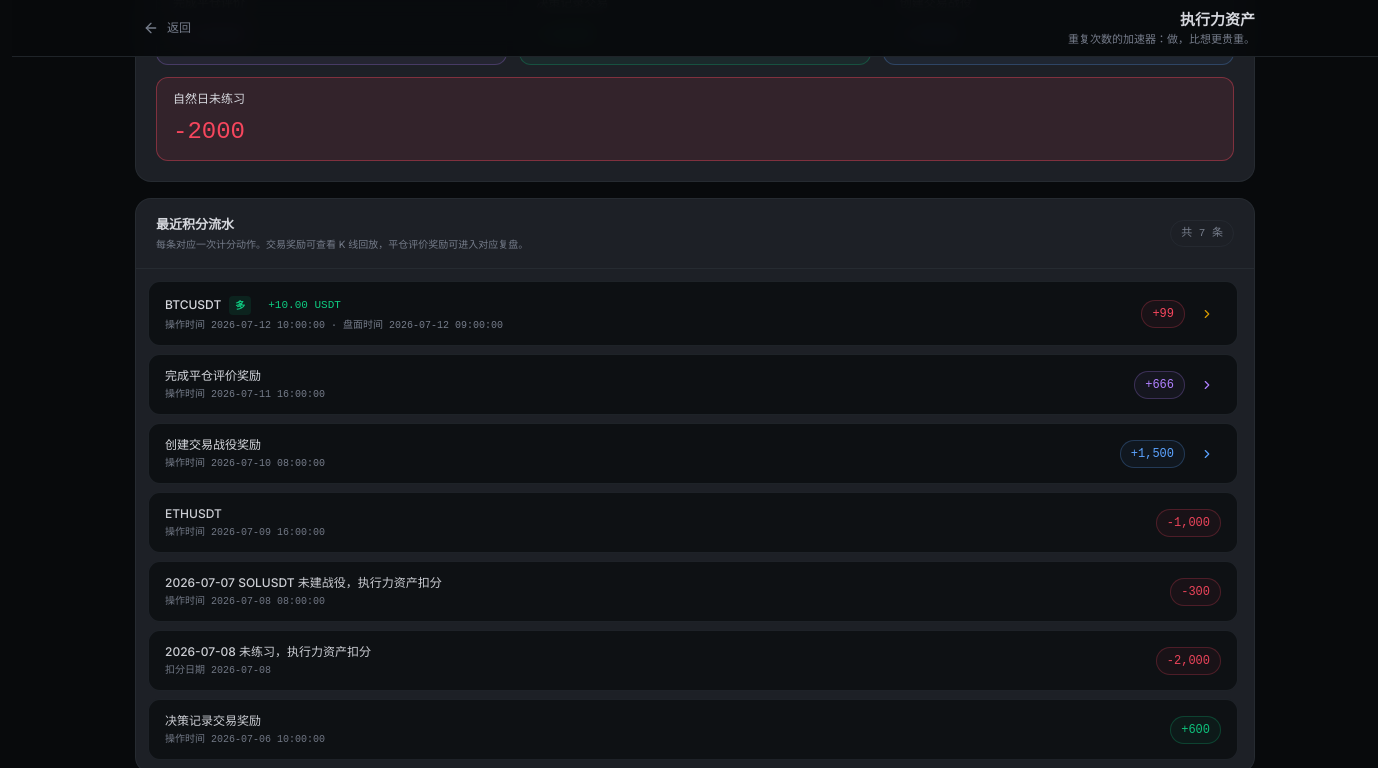
Test: ExecutionAssetsPage review reward › opens the correct review mode for review-event-1
(page scrolled)
Click the text "+666": (1160, 385) x1=1134 y1=371 x2=1185 y2=399
(page scrolled)
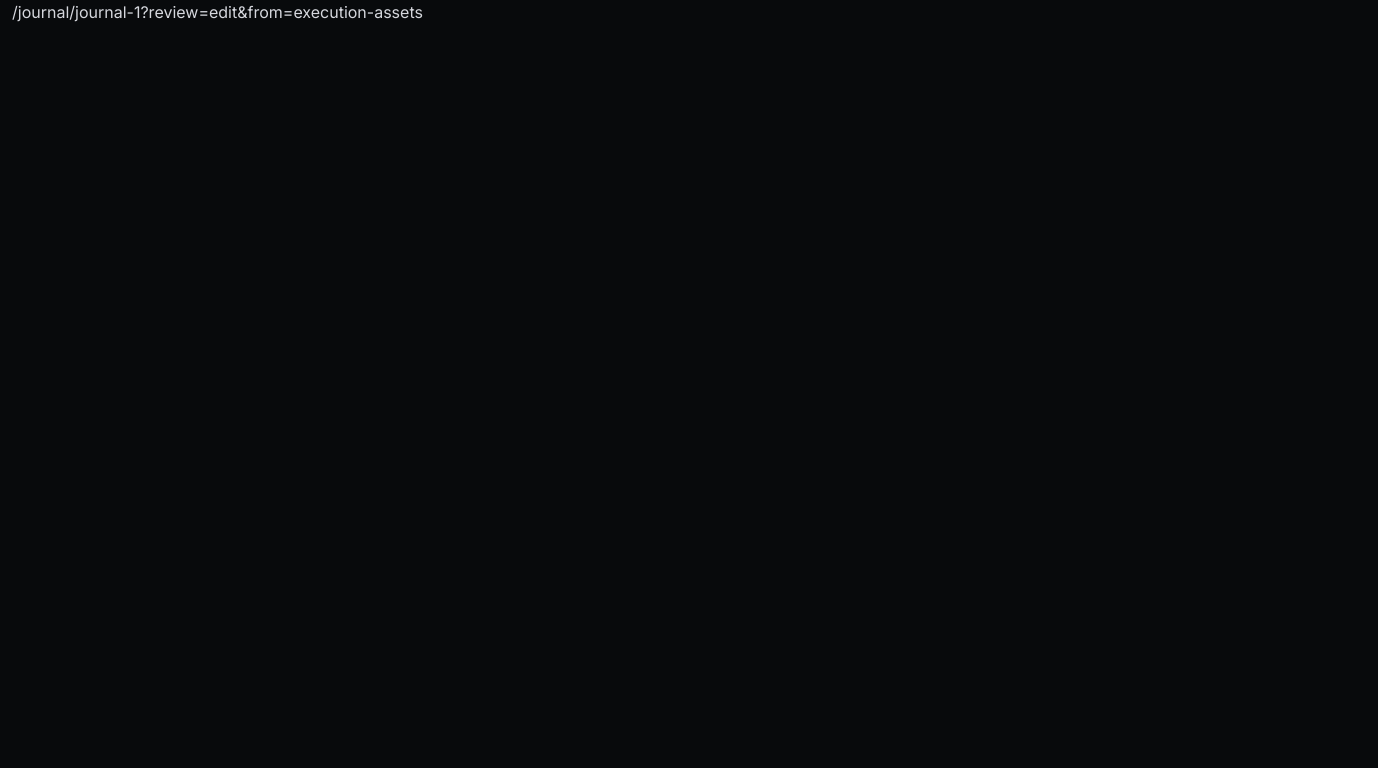
expect the text with test id "review-destination" reads "/journal/journal-1?review=edit&from=execution-assets": met, box x1=12 y1=2 x2=423 y2=22
